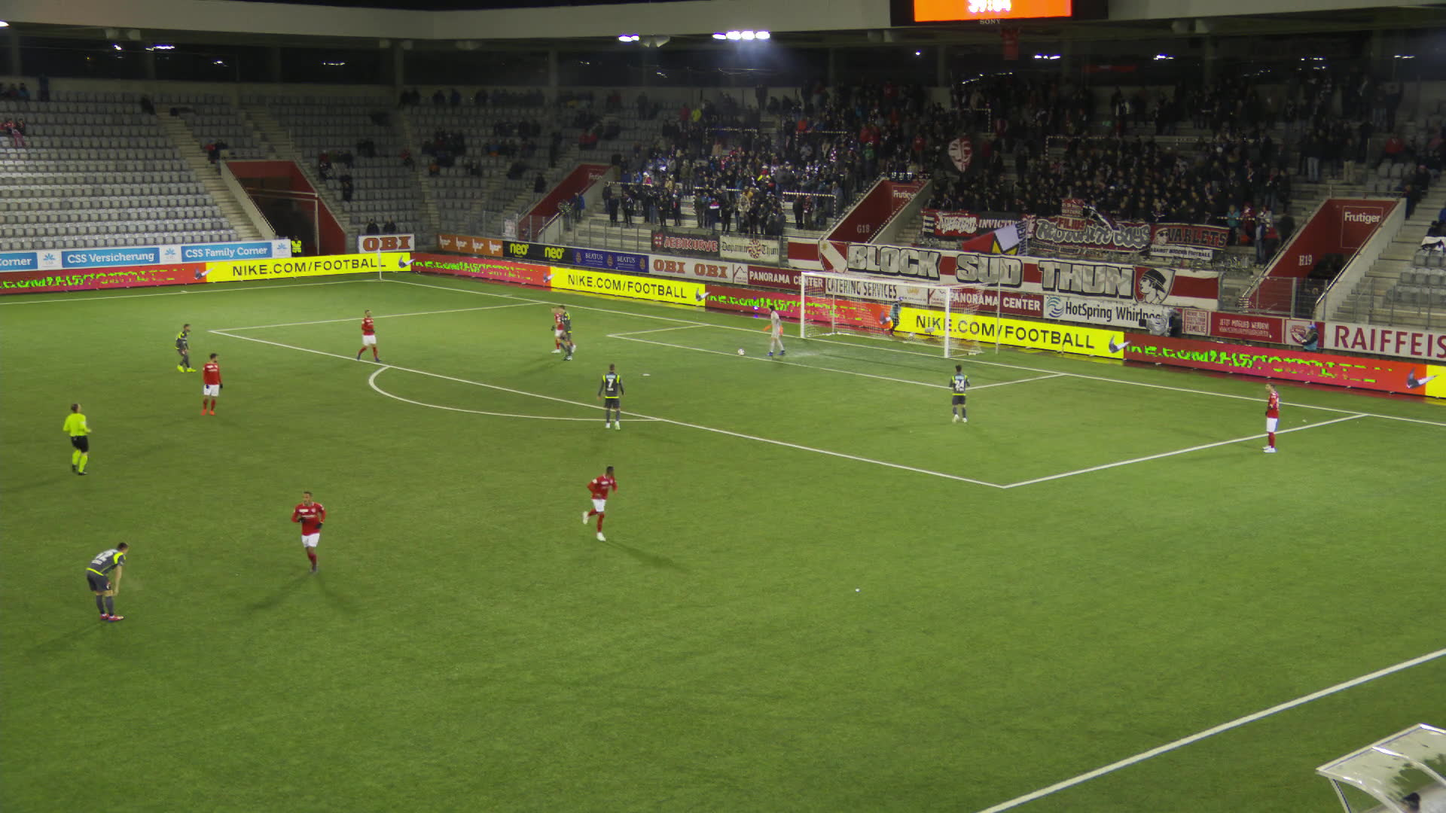ball: (908, 333, 914, 339), (737, 349, 743, 355)
player: (290, 484, 331, 578), (85, 541, 129, 621), (581, 465, 618, 539), (596, 363, 624, 429), (200, 352, 222, 416), (1261, 381, 1280, 453), (949, 363, 971, 422), (358, 310, 382, 364), (761, 306, 783, 357), (551, 306, 575, 352), (174, 324, 195, 373), (557, 304, 573, 360)
referee: (63, 402, 91, 475)
